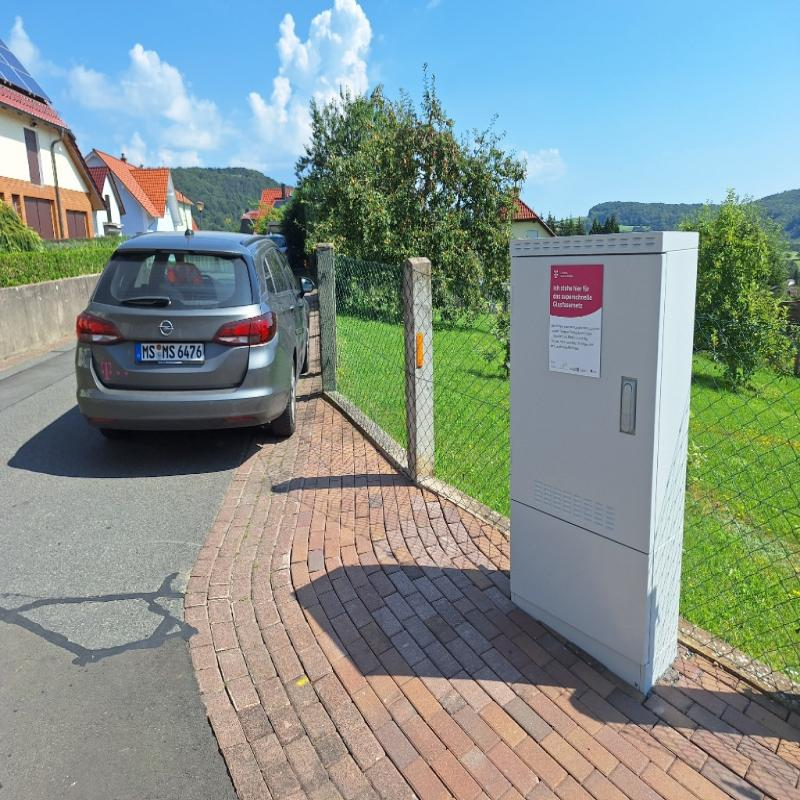NT-Gehause: (506, 232, 698, 690)
Steaker: (551, 261, 604, 376)
